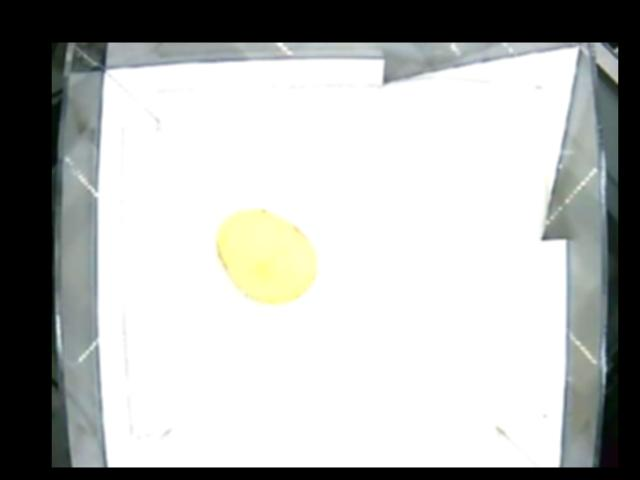Potato: (213, 204, 318, 305)
